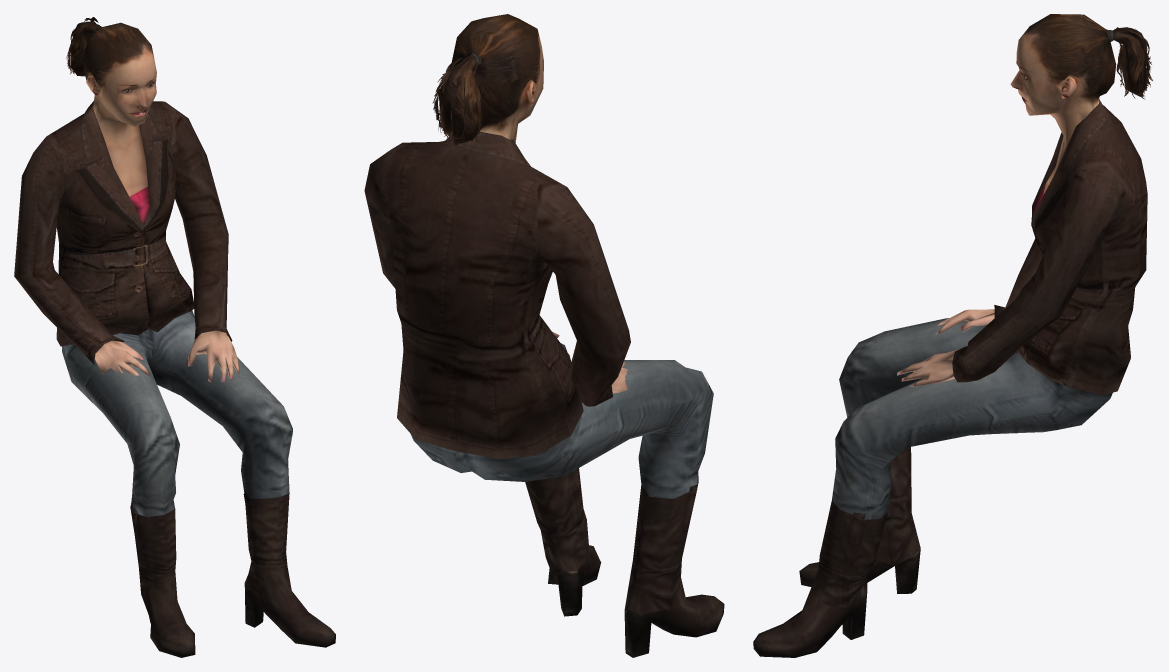
File: Female_Adult_07_seated.glb
The picture shows the model from 3 angles, left to right: view 1: azimuth 30°, elevation 25°; view 2: azimuth 150°, elevation 25°; view 3: azimuth 270°, elevation 25°; orthographic projection. The views are drawn at different scales.
Visible parts, largest first — view 1: f007_hipoly_81_bones_opacity_b; view 2: f007_hipoly_81_bones_opacity_b; view 3: f007_hipoly_81_bones_opacity_b.
Part boxes in pixels (x1=…): f007_hipoly_81_bones_opacity_b: x1=14, y1=17, x2=335, y2=657; f007_hipoly_81_bones_opacity_b: x1=364, y1=14, x2=724, y2=657; f007_hipoly_81_bones_opacity_b: x1=753, y1=14, x2=1152, y2=657.
Bounding box in the file's own units: 0.5422 × 1.4 × 0.8497.
3 materials, 3 textured.
